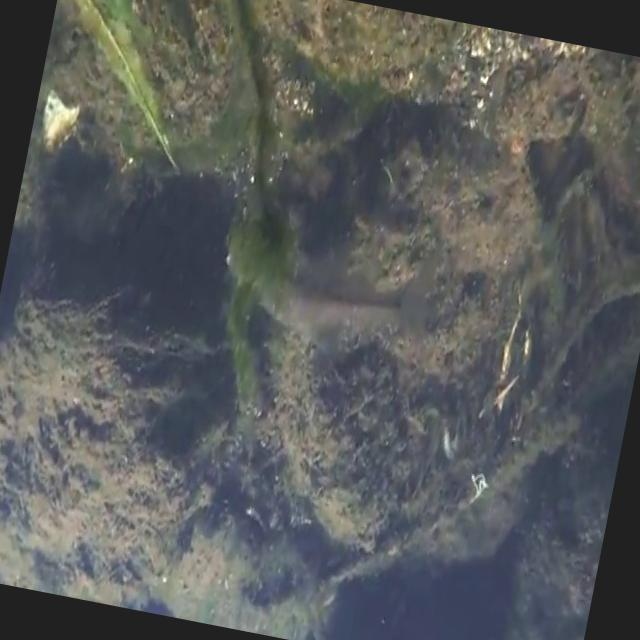Cakil Baligi: (232, 226, 440, 378)
